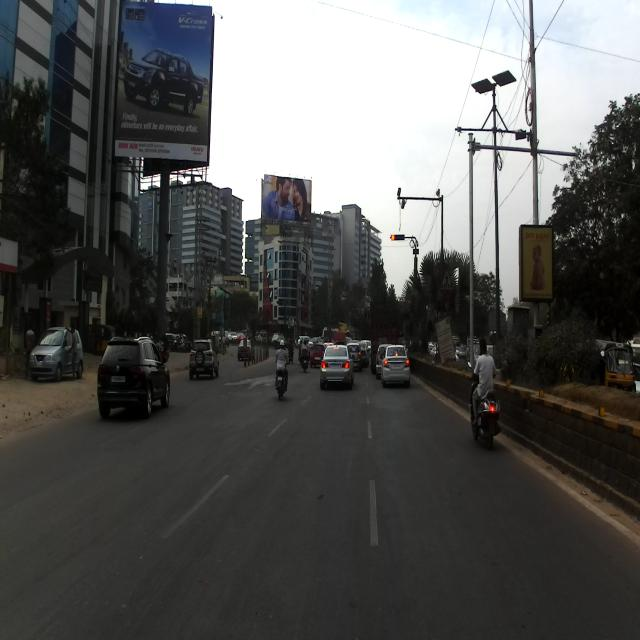car ahead at: (92, 337, 169, 415)
motorcycle ahead at: (467, 389, 506, 447)
traffic signal ahead at: (385, 226, 410, 254)
